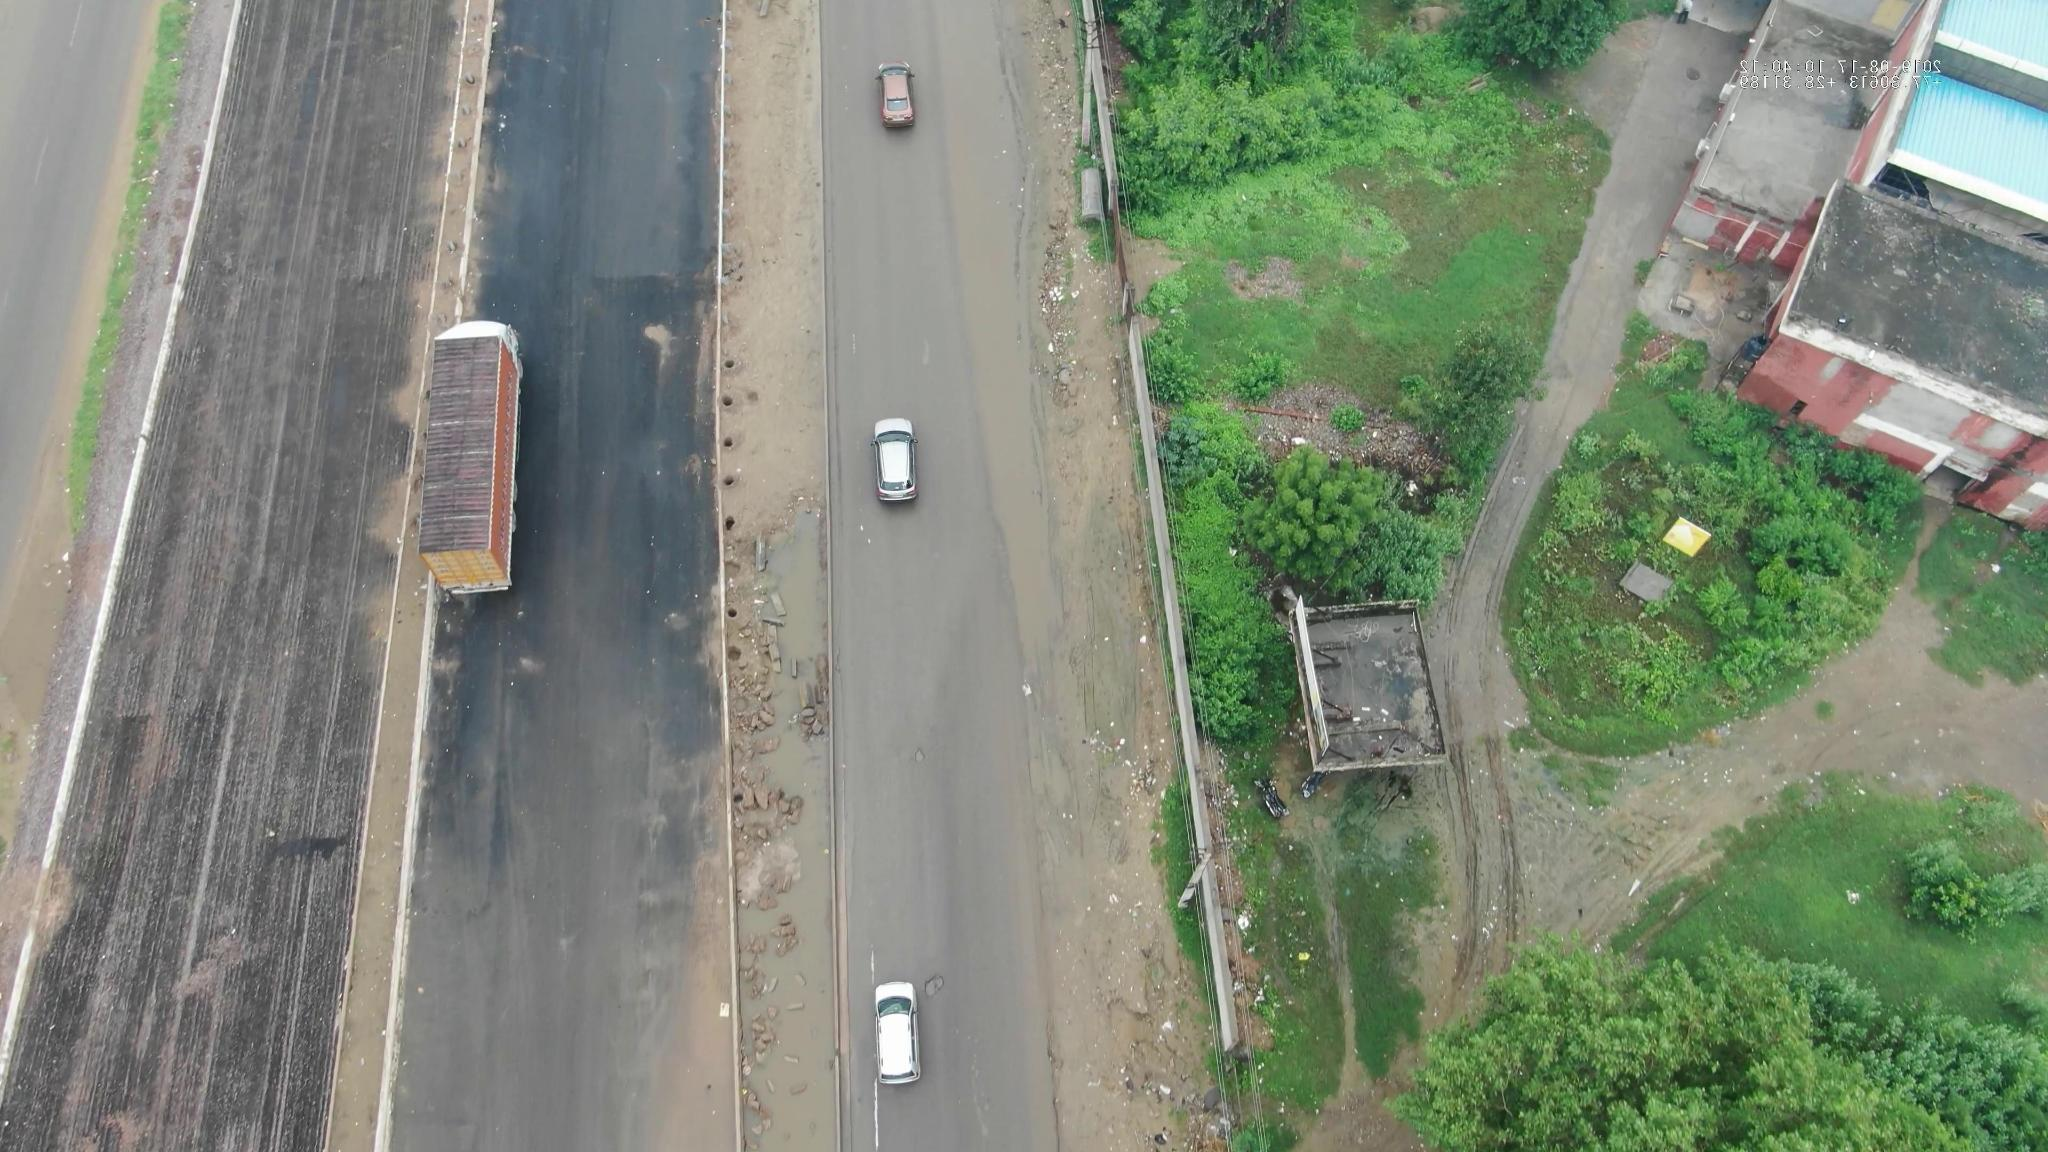Waterlogging: (964, 218, 1079, 648), (940, 8, 1049, 224)
